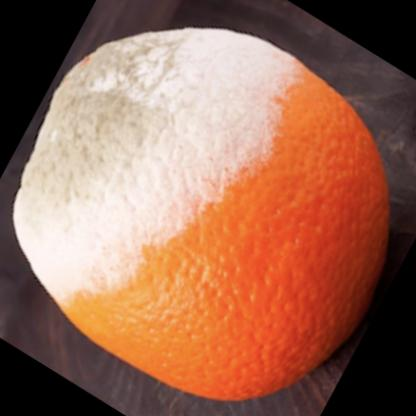rotten: (14, 26, 390, 401)
